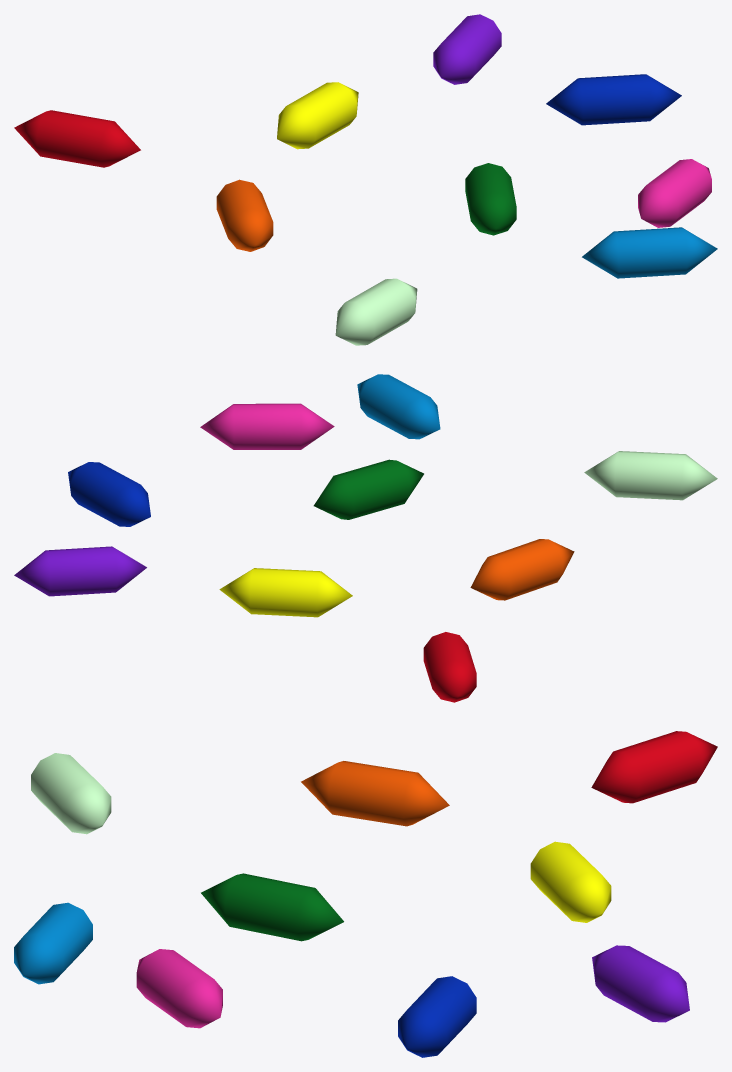
File: Sprinkles.fbx
The picture shows the model from 3 angles, top to bottom: view 1: azimuth 30°, elevation 25°; view 2: azimuth 150°, elevation 25°; view 3: azimuth 270°, elevation 25°; orthographic projection. The views are drawn at different scales.
Visible parts, largest first — view 1: Sprinkles; view 2: Sprinkles; view 3: Sprinkles.
Boxes of the visible parts, left/top/right/bottom form: Sprinkles: left=14, top=14, right=717, bottom=345; Sprinkles: left=14, top=374, right=717, bottom=702; Sprinkles: left=14, top=731, right=717, bottom=1057.
Size of the model in its own units: 0.4908 by 0.0383 by 0.4843.
